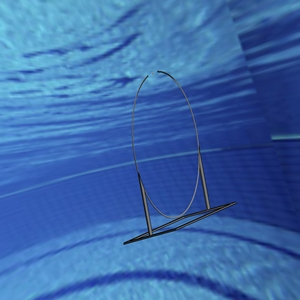circle: (121, 68, 237, 244)
